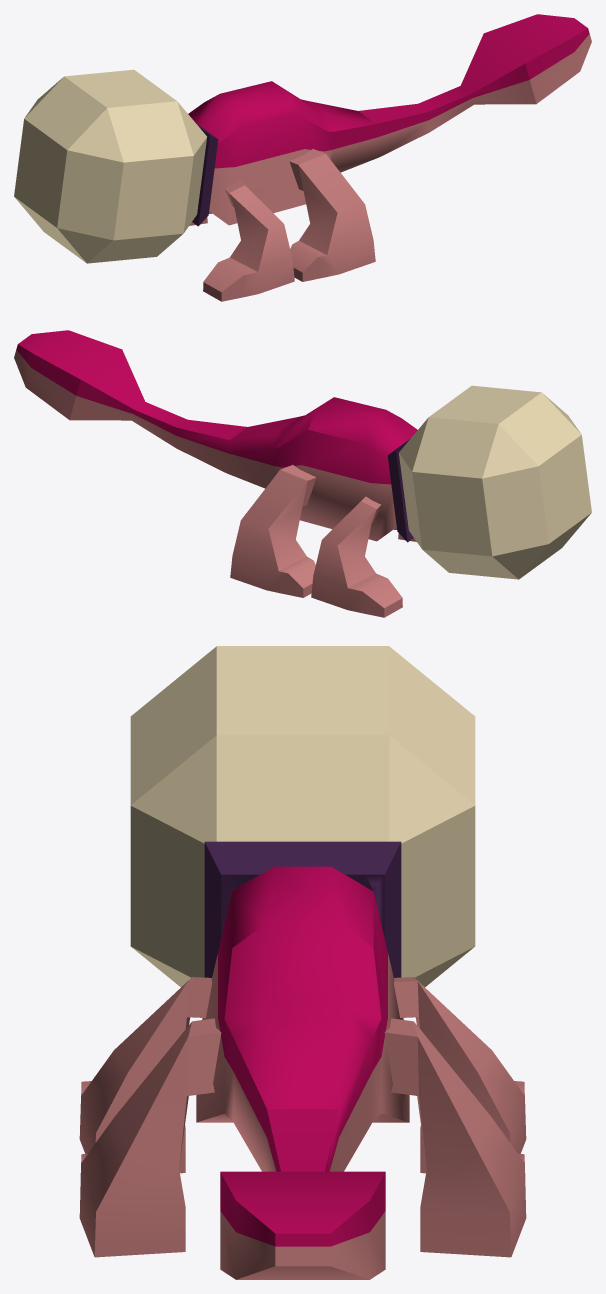
File: AOE Turret.fbx
3 renders of one model, top to bottom at view 1: azimuth 30°, elevation 25°; view 2: azimuth 150°, elevation 25°; view 3: azimuth 270°, elevation 25°, orthographic. The views are drawn at different scales.
Visible parts, largest first — view 1: helmet, body, back_legs, front_legs; view 2: helmet, body, back_legs, front_legs; view 3: helmet, body, back_legs, front_legs.
Part boxes in pixels (x1,y1,x2,y2): helmet: (14,69,206,263); body: (188,14,591,226); back_legs: (209,149,375,281); front_legs: (189,180,294,301); helmet: (399,385,591,579); body: (14,330,417,542); back_legs: (230,465,396,597); front_legs: (311,496,416,617); helmet: (130,646,475,986); body: (196,841,409,1279); back_legs: (79,1018,526,1257); front_legs: (79,977,526,1173).
Bounding box in the file's own units: 15.76 × 5.2 × 5.55.
